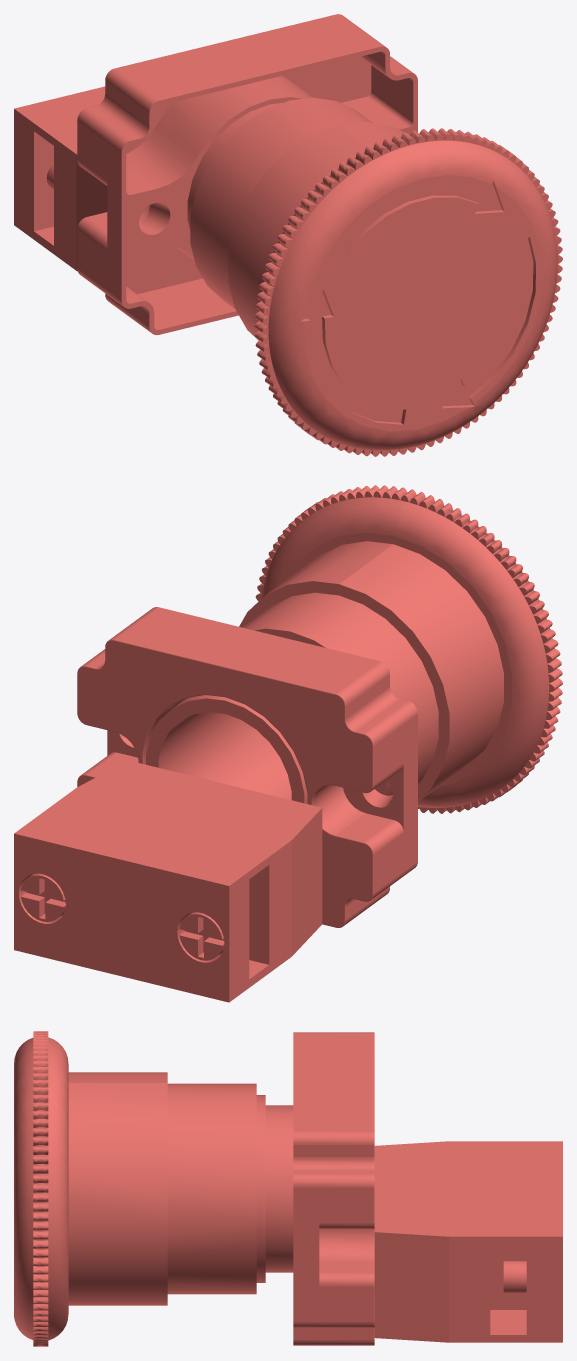
3 renders of one model, top to bottom at view 1: azimuth 30°, elevation 25°; view 2: azimuth 150°, elevation 25°; view 3: azimuth 270°, elevation 25°, orthographic. The views are drawn at different scales.
Visible parts, largest first — view 1: .estop.obj; view 2: .estop.obj; view 3: .estop.obj.
Part boxes in pixels (<box>): .estop.obj: <box>14,14,562,456</box>; .estop.obj: <box>14,485,562,1002</box>; .estop.obj: <box>14,1031,562,1346</box>.
Bounding box in the file's own units: 40.41 × 40.41 × 70.36.
